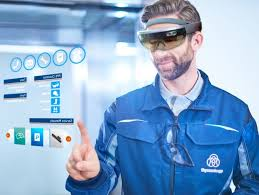hololens: (135, 23, 192, 52)
